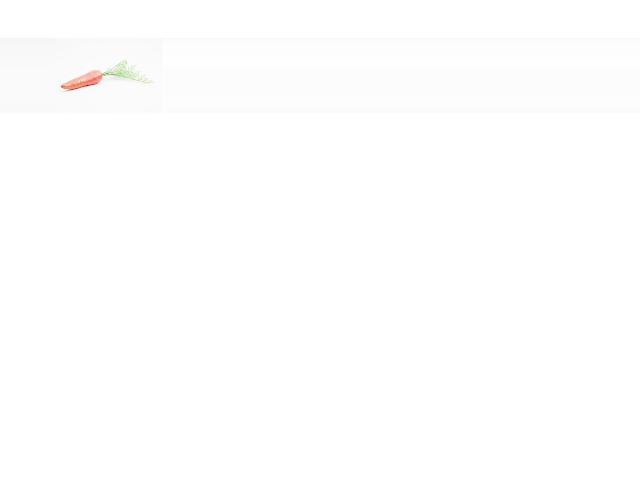carrot: (57, 68, 105, 98)
